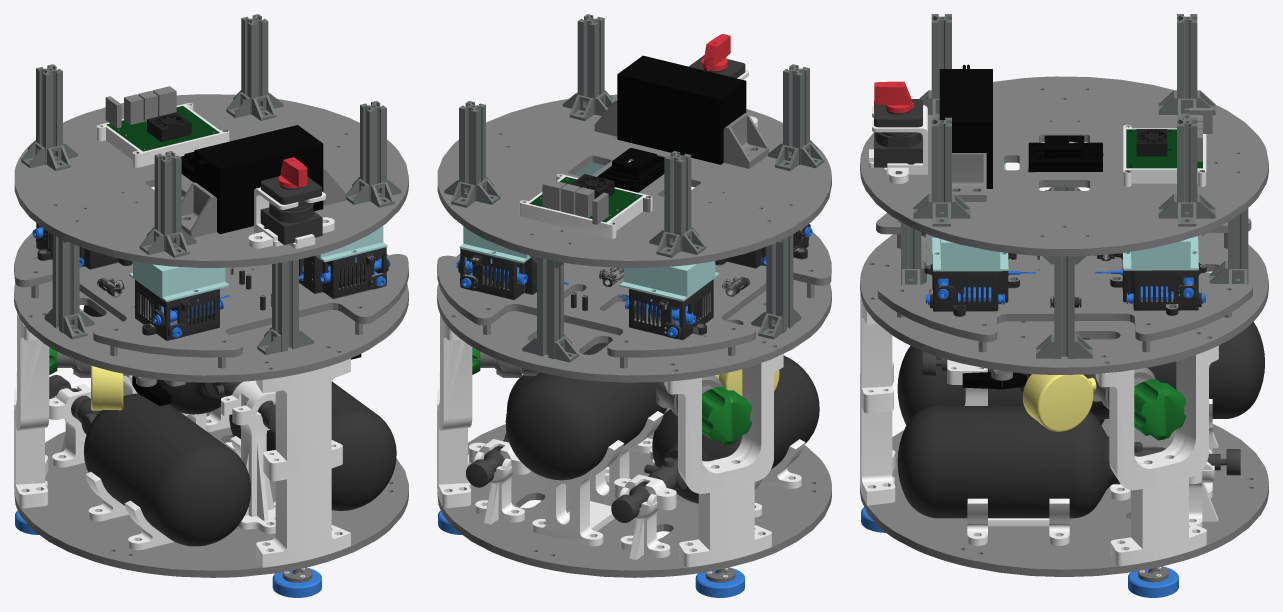
Rendered from proto.dae.
The picture shows the model from 3 angles, left to right: view 1: azimuth 30°, elevation 25°; view 2: azimuth 150°, elevation 25°; view 3: azimuth 270°, elevation 25°; orthographic projection. The views are drawn at different scales.
Visible parts, largest first — view 1: Proto7_simplify.025, Proto7_simplify, Proto7_simplify.244, Proto7_simplify.089, Proto7_simplify.063, Proto7_simplify.008, Proto7_simplify.019, Proto7_simplify.032, Proto7_simplify.098, Proto7_simplify.053, Proto7_simplify.011, Proto7_simplify.220 (+5 smaller); view 2: Proto7_simplify.025, Proto7_simplify, Proto7_simplify.089, Proto7_simplify.063, Proto7_simplify.008, Proto7_simplify.019, Proto7_simplify.244, Proto7_simplify.032, Proto7_simplify.098, Proto7_simplify.011, Proto7_simplify.031, Proto7_simplify.267 (+4 smaller); view 3: Proto7_simplify.025, Proto7_simplify.244, Proto7_simplify, Proto7_simplify.089, Proto7_simplify.019, Proto7_simplify.008, Proto7_simplify.063, Proto7_simplify.032, Proto7_simplify.098, Proto7_simplify.220, Proto7_simplify.053, Proto7_simplify.031 (+6 smaller).
Boxes of the visible parts, x1,y1,x2,y2 form: Proto7_simplify.025: [14, 86, 408, 267]; Proto7_simplify: [14, 313, 350, 567]; Proto7_simplify.244: [83, 305, 396, 546]; Proto7_simplify.089: [14, 196, 408, 357]; Proto7_simplify.063: [21, 14, 401, 355]; Proto7_simplify.008: [14, 413, 408, 577]; Proto7_simplify.019: [14, 254, 408, 382]; Proto7_simplify.032: [194, 125, 323, 234]; Proto7_simplify.098: [129, 226, 387, 301]; Proto7_simplify.053: [260, 176, 322, 244]; Proto7_simplify.011: [49, 375, 275, 434]; Proto7_simplify.220: [91, 365, 123, 410]; Proto7_simplify.025: [437, 69, 831, 267]; Proto7_simplify: [437, 314, 805, 567]; Proto7_simplify.089: [437, 223, 831, 357]; Proto7_simplify.063: [444, 14, 824, 362]; Proto7_simplify.008: [437, 424, 831, 577]; Proto7_simplify.019: [437, 254, 831, 445]; Proto7_simplify.244: [505, 343, 819, 503]; Proto7_simplify.032: [617, 55, 746, 164]; Proto7_simplify.098: [459, 162, 719, 301]; Proto7_simplify.011: [466, 432, 687, 522]; Proto7_simplify.031: [597, 148, 664, 192]; Proto7_simplify.267: [438, 510, 744, 597]; Proto7_simplify.025: [860, 76, 1268, 256]; Proto7_simplify.244: [897, 322, 1264, 518]; Proto7_simplify: [860, 271, 1218, 566]; Proto7_simplify.089: [876, 190, 1252, 342]; Proto7_simplify.019: [860, 233, 1268, 440]; Proto7_simplify.008: [860, 419, 1268, 576]; Proto7_simplify.063: [901, 14, 1248, 358]; Proto7_simplify.032: [939, 64, 992, 188]; Proto7_simplify.098: [932, 163, 1198, 271]; Proto7_simplify.220: [1022, 374, 1096, 431]; Proto7_simplify.053: [874, 99, 922, 167]; Proto7_simplify.031: [1028, 135, 1102, 171].
Size of the model in its own units: 0.3998 by 0.4 by 0.4886.
